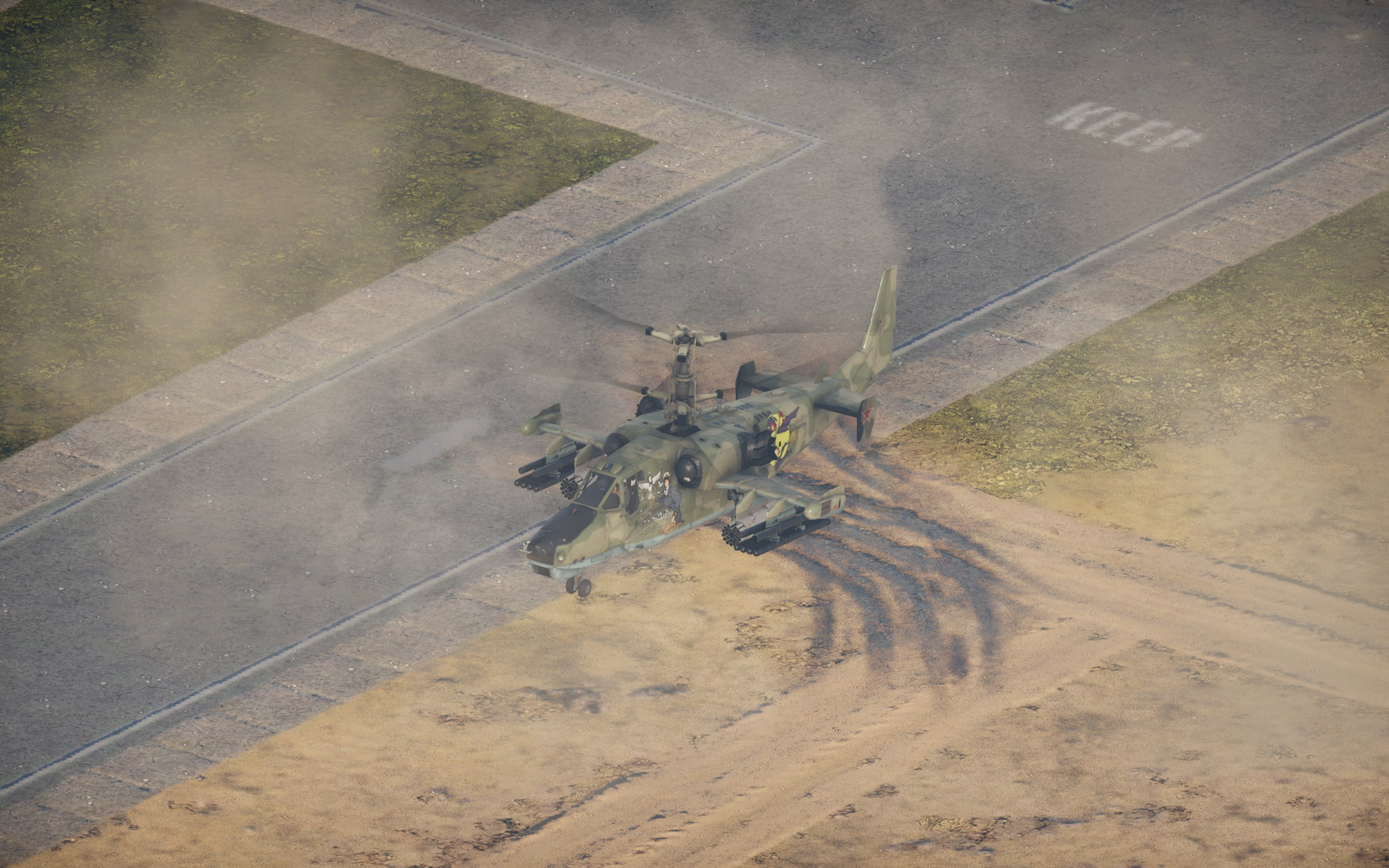ka50: (513, 265, 898, 598)
